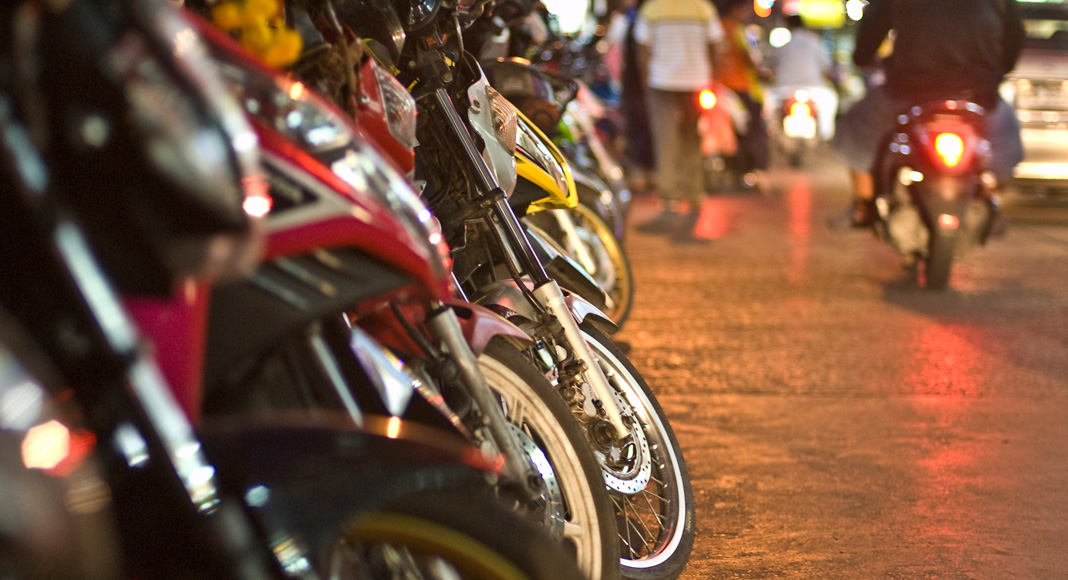bike: (7, 5, 464, 580), (863, 11, 1014, 288), (692, 17, 765, 176), (769, 25, 835, 162)
